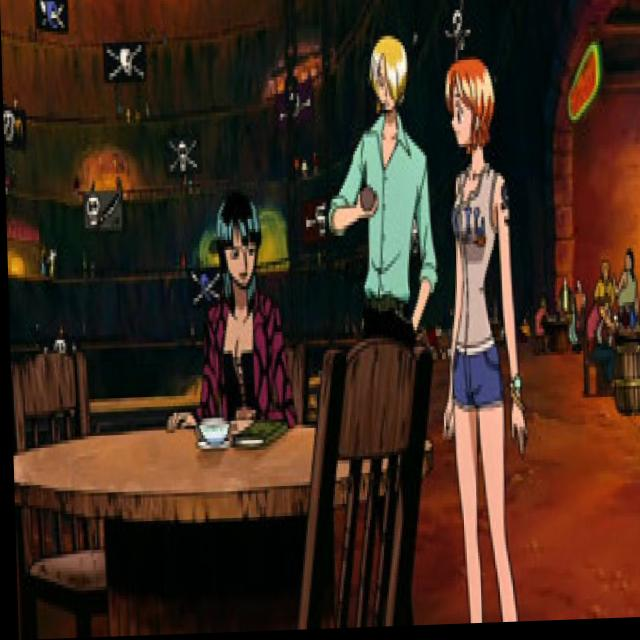Nami: (435, 48, 504, 172)
NicoRobin: (207, 182, 273, 309)
Sangdi: (363, 38, 415, 129)
